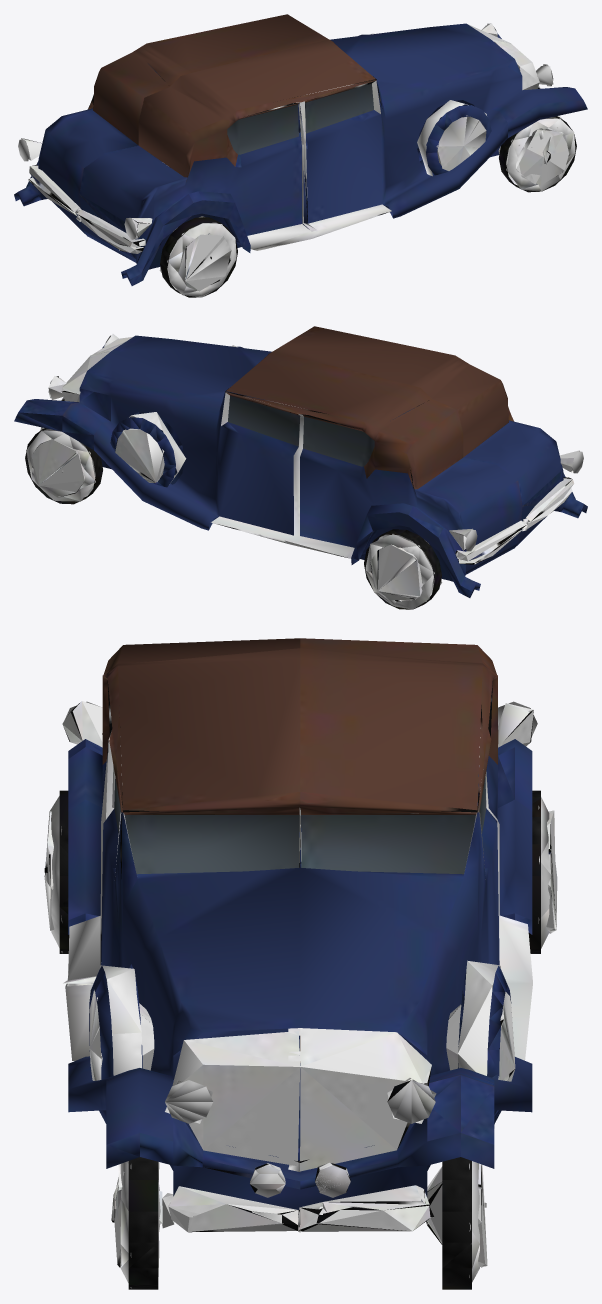
Rendered from car_a.glb.
The picture shows the model from 3 angles, top to bottom: view 1: azimuth 30°, elevation 25°; view 2: azimuth 150°, elevation 25°; view 3: azimuth 270°, elevation 25°; orthographic projection. The views are drawn at different scales.
Visible parts, largest first — view 1: CarA; view 2: CarA; view 3: CarA.
Part boxes in pixels (x1,y1,x2,y2): CarA: [14, 14, 587, 297]; CarA: [14, 326, 587, 609]; CarA: [44, 638, 557, 1289].
Bounding box in the file's own units: 4.6 × 1.57 × 2.16.
Materials: 1 (1 with a texture image).
